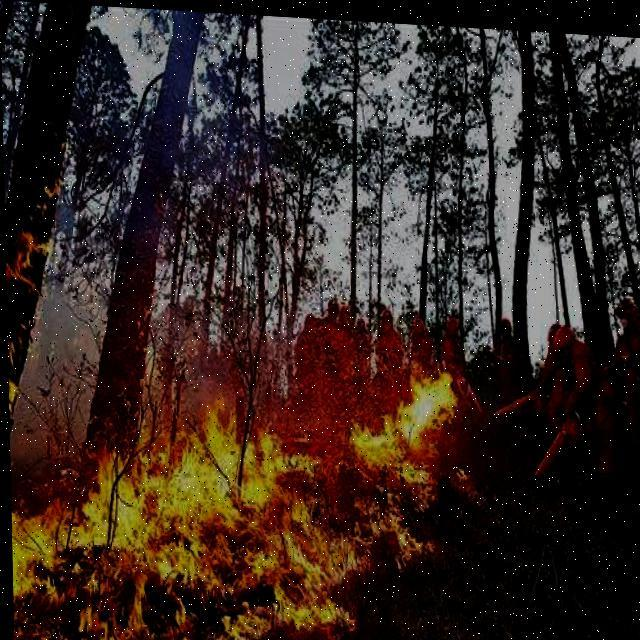Fire: (5, 151, 463, 639)
